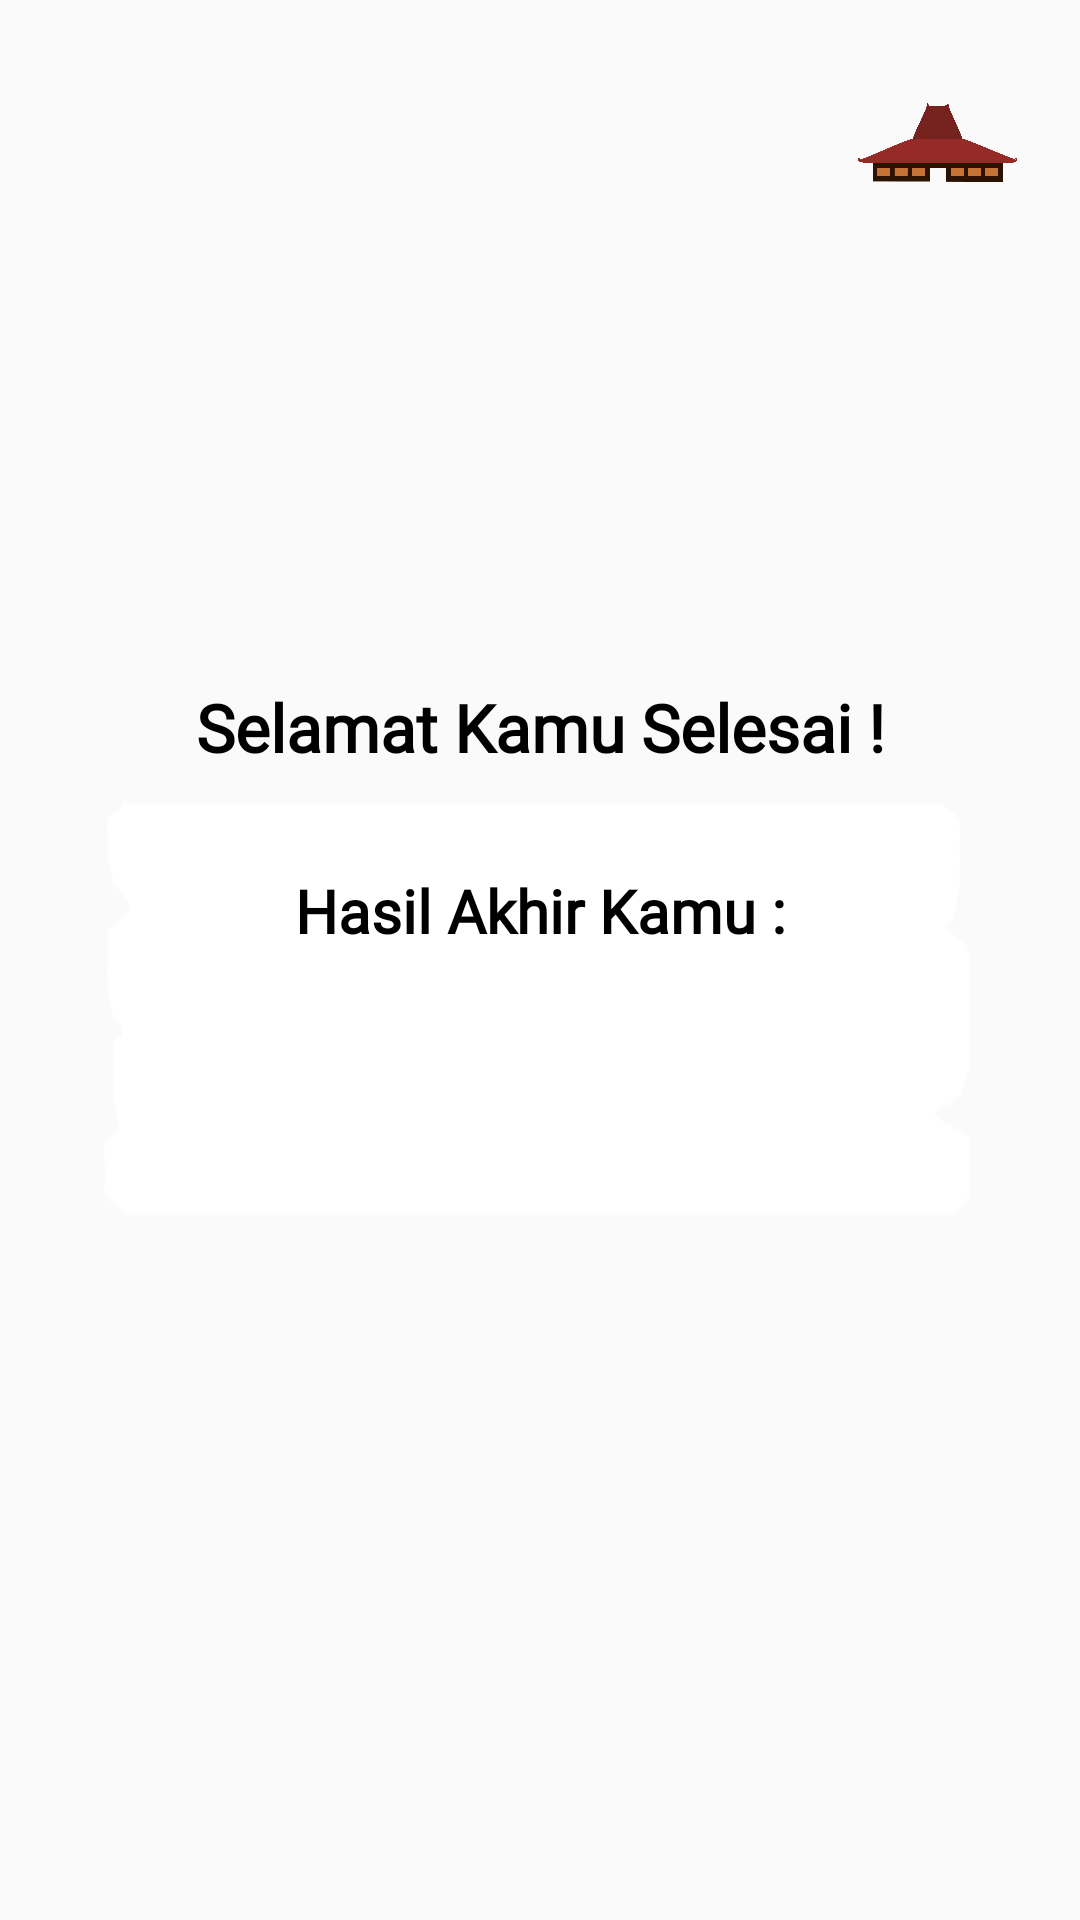

Icon bounding boxes for this 1080*1920 phone screenshot, format (x1, y1, x2, y2):
home: (858, 103, 1017, 182)
